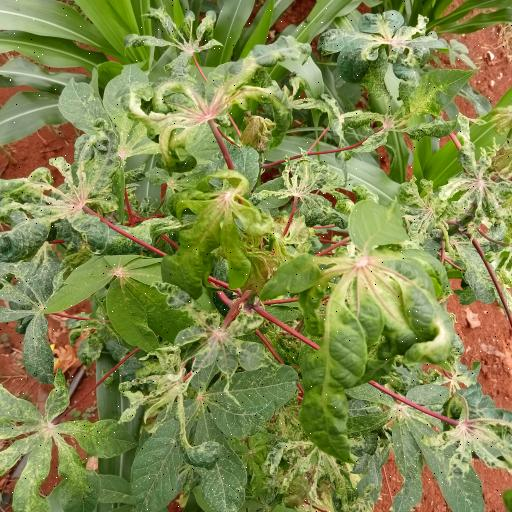Cassava_Mosaic: (268, 201, 450, 458), (132, 364, 293, 512), (0, 379, 146, 512), (129, 52, 297, 165), (162, 170, 256, 292), (0, 133, 108, 238), (425, 388, 512, 509), (318, 9, 446, 79)
